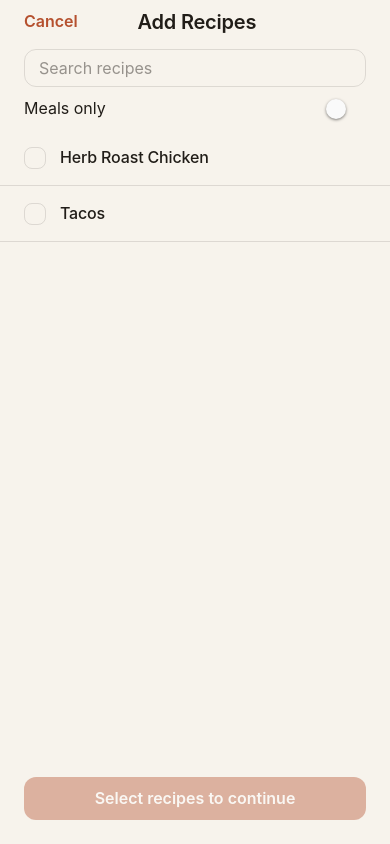
reports a failure without navigating back — the batch is all-or-nothing, no partial state to describe
The image size is (390, 844).
expect the text "Herb Roast Chicken" is shown: met, box [60,147,209,167]
Click the checkbox with test id "add-to-this-week-recipe-r1". click: (195, 158)
box: [0,130,389,186]
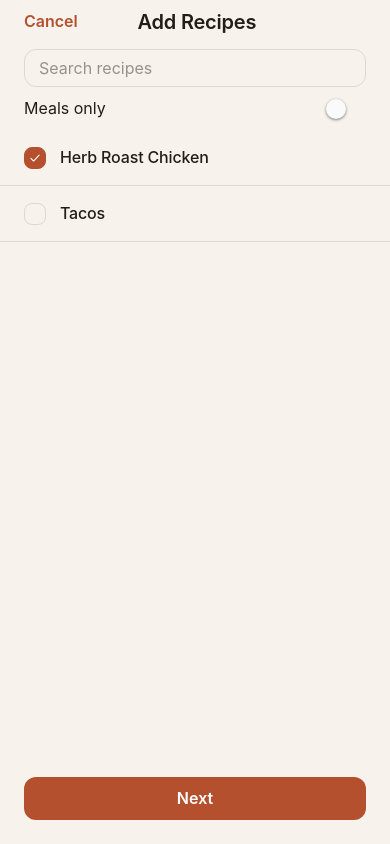
Click the checkbox with test id "add-to-this-week-recipe-r2". click: (195, 214)
box: [0,186,389,242]
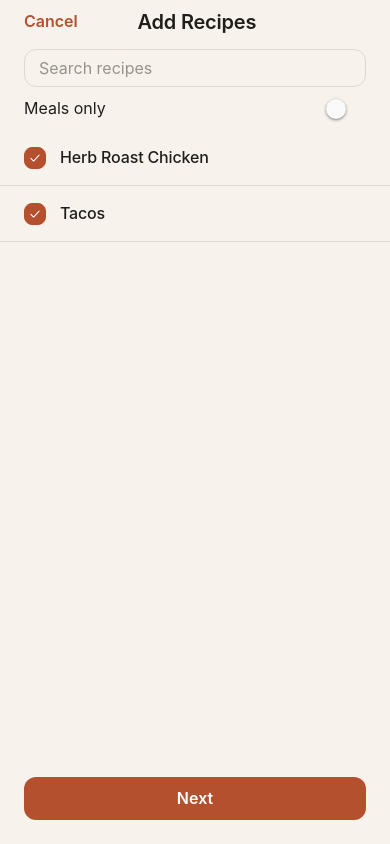
Click the button with test id "add-to-this-week-next". click: (195, 798)
box: [24,777,366,820]
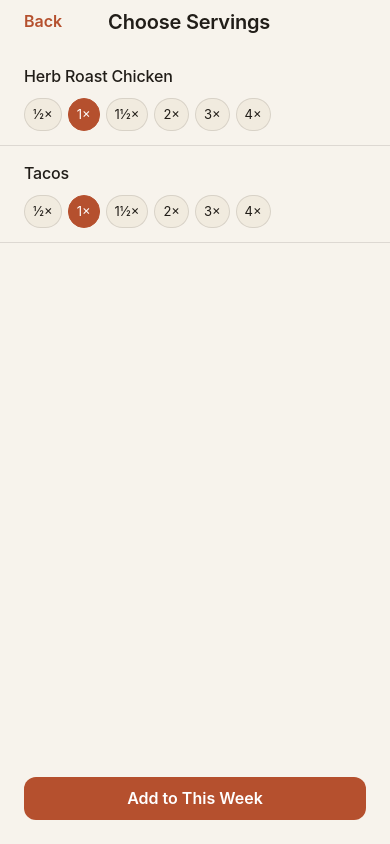
Click the button with test id "add-to-this-week-submit". click: (195, 798)
box: [24,777,366,820]
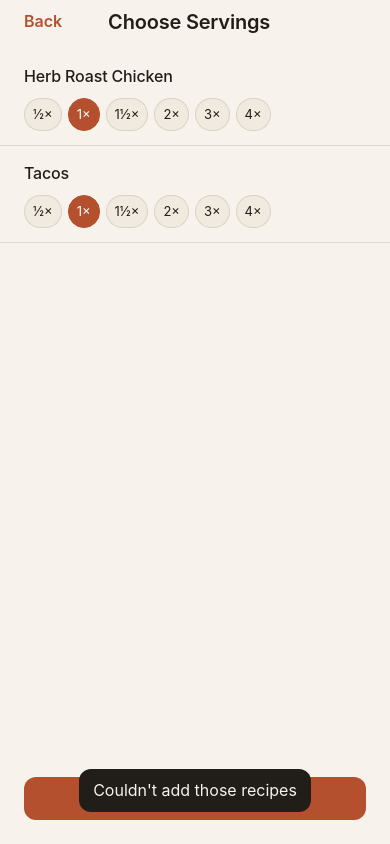
expect the text "Couldn't add those recipes" is shown: met, box [93,777,297,804]
